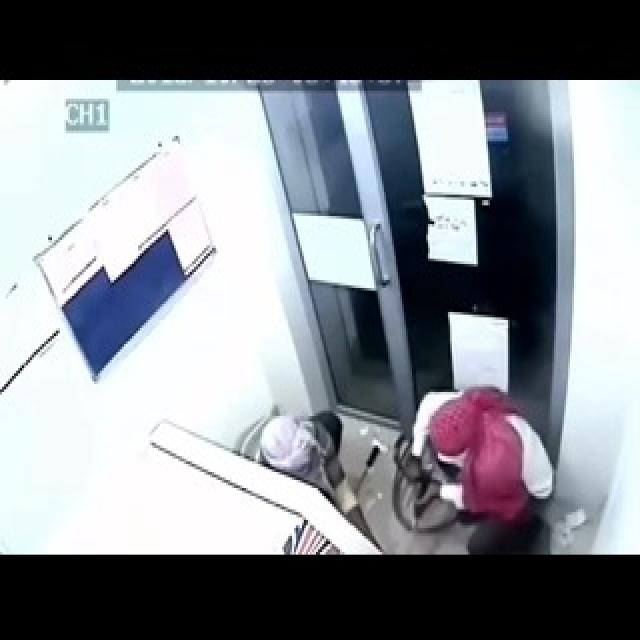thief: (396, 379, 555, 546)
